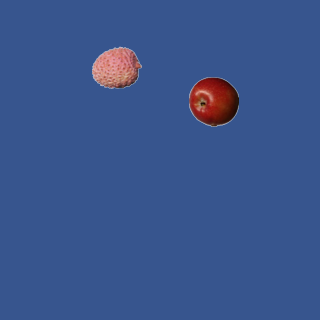Apple Braeburn: (188, 76, 238, 126)
Lychee: (91, 42, 141, 92)
